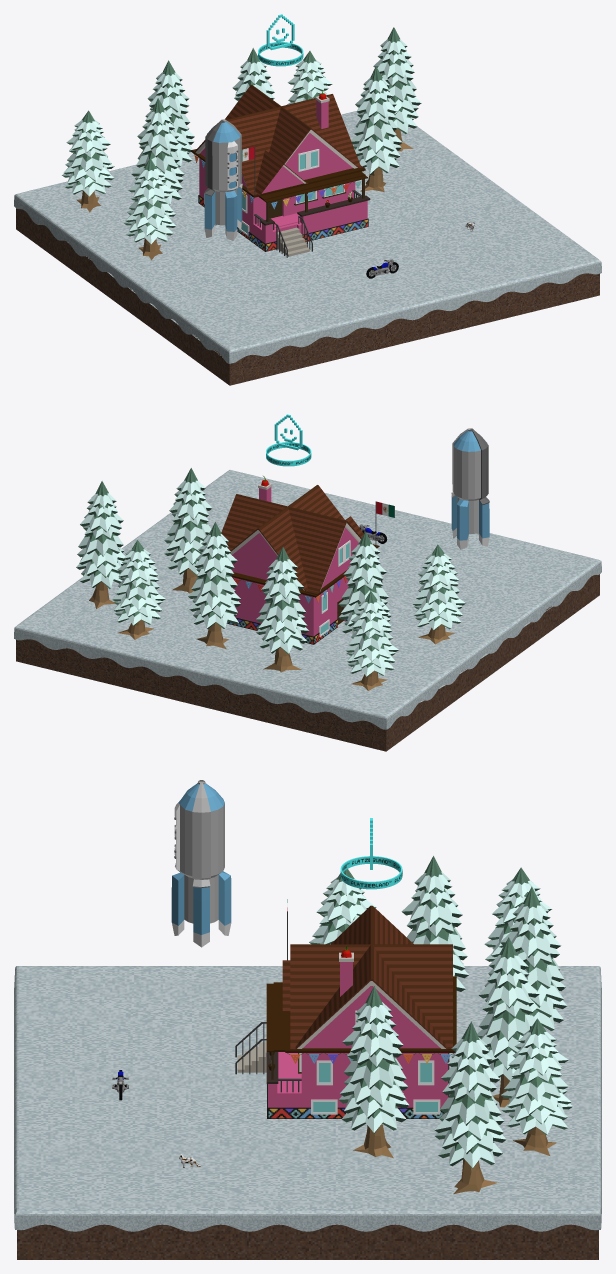
3 renders of one model, top to bottom at view 1: azimuth 30°, elevation 25°; view 2: azimuth 150°, elevation 25°; view 3: azimuth 270°, elevation 25°, orthographic. The views are drawn at different scales.
Visible parts, largest first — view 1: Cube.003, Cube.1005, OBJRANDOM_ROCKETSHIP, TYPE_PREMIUM; view 2: Cube.003, Cube.1005, OBJRANDOM_ROCKETSHIP, TYPE_PREMIUM; view 3: Cube.003, Cube.1005, OBJRANDOM_ROCKETSHIP, TYPE_PREMIUM.
Part boxes in pixels (<box>): Cube.003: <box>14,27,601,385</box>; Cube.1005: <box>191,84,370,257</box>; OBJRANDOM_ROCKETSHIP: <box>204,119,242,240</box>; TYPE_PREMIUM: <box>258,14,303,66</box>; Cube.003: <box>14,468,601,751</box>; Cube.1005: <box>221,476,394,644</box>; OBJRANDOM_ROCKETSHIP: <box>451,428,489,549</box>; TYPE_PREMIUM: <box>266,414,311,466</box>; Cube.003: <box>14,856,601,1259</box>; Cube.1005: <box>235,899,456,1118</box>; OBJRANDOM_ROCKETSHIP: <box>171,780,231,947</box>; TYPE_PREMIUM: <box>340,818,402,889</box>.
Bounding box in the file's own units: 4040 × 2440 × 4040.
Materials: 68 (6 with a texture image).
